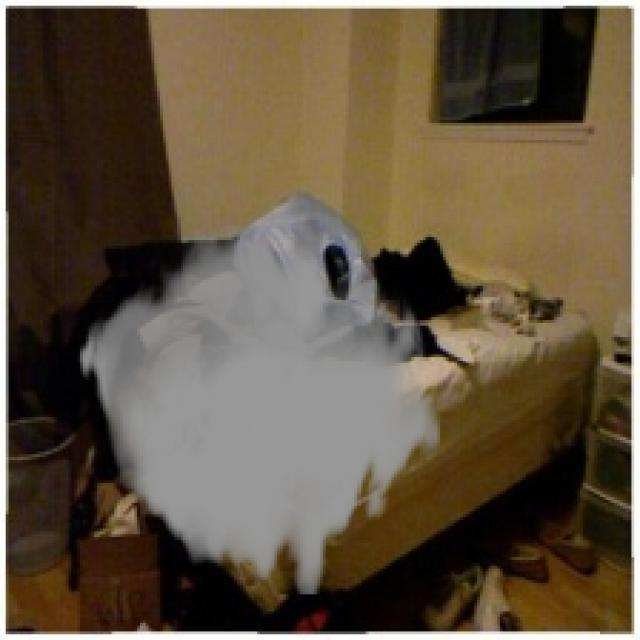Smoke: (77, 226, 443, 594)
